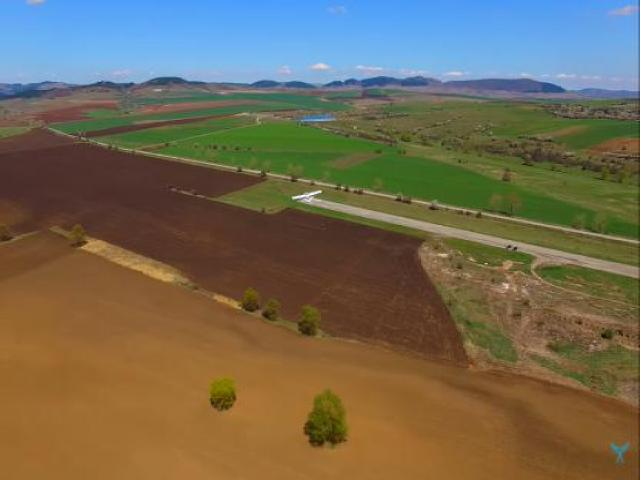uav: (286, 183, 325, 210)
